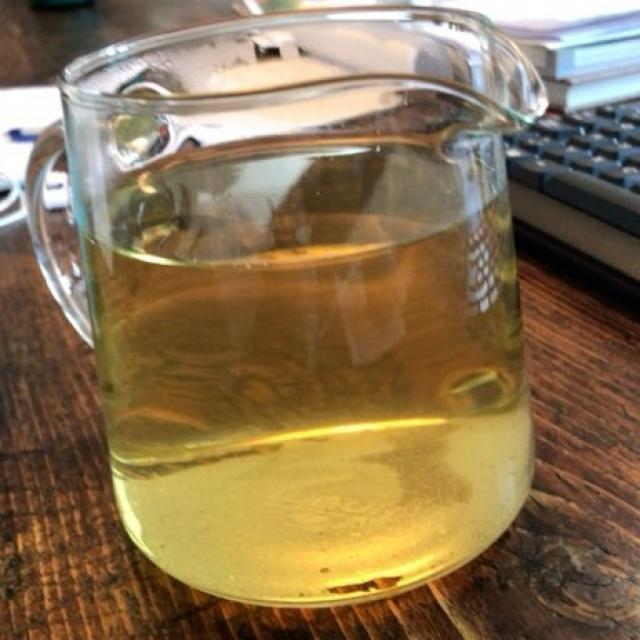tea: (82, 143, 538, 616)
